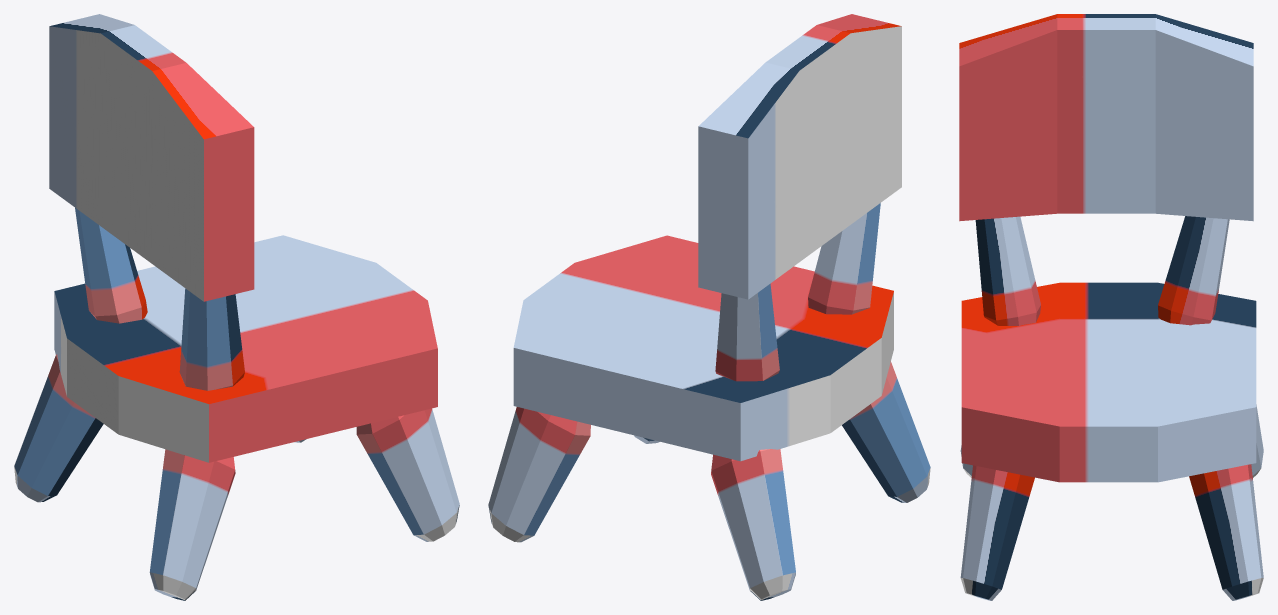
File: chair-pink.fbx
3 renders of one model, left to right at view 1: azimuth 30°, elevation 25°; view 2: azimuth 150°, elevation 25°; view 3: azimuth 270°, elevation 25°, orthographic. The views are drawn at different scales.
Parts seen in each view (by area): view 1: chair.003; view 2: chair.003; view 3: chair.003.
Boxes of the visible parts, x1,y1,x2,y2 form: chair.003: [14, 14, 459, 600]; chair.003: [488, 14, 930, 600]; chair.003: [959, 14, 1263, 600].
Size of the model in its own units: 237 by 356 by 207.
